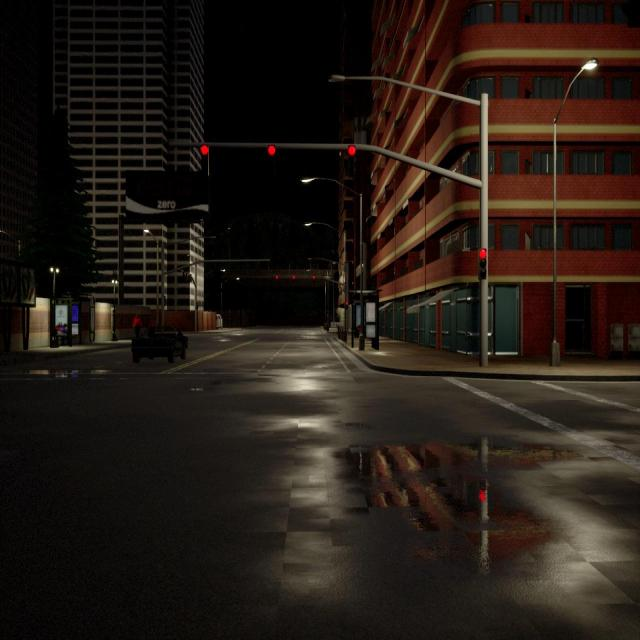Pedestrian: (132, 312, 143, 341)
Vehicle: (132, 325, 188, 364), (216, 314, 223, 329)
traffic_light: (478, 248, 487, 280), (348, 144, 356, 172), (200, 144, 208, 172), (268, 144, 276, 171), (346, 301, 348, 310), (292, 274, 295, 280), (312, 275, 316, 279), (276, 275, 278, 279)
